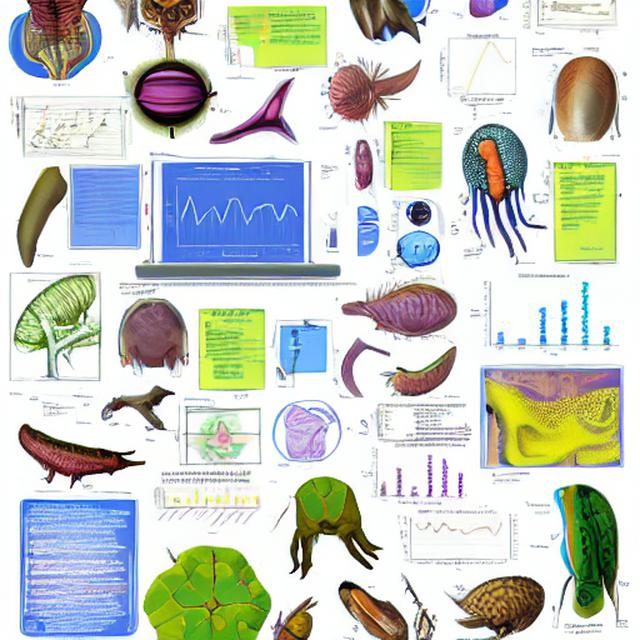Graph: (464, 269, 621, 361), (163, 175, 304, 262), (149, 469, 263, 535), (359, 442, 471, 507), (433, 30, 529, 102), (399, 508, 508, 571)
